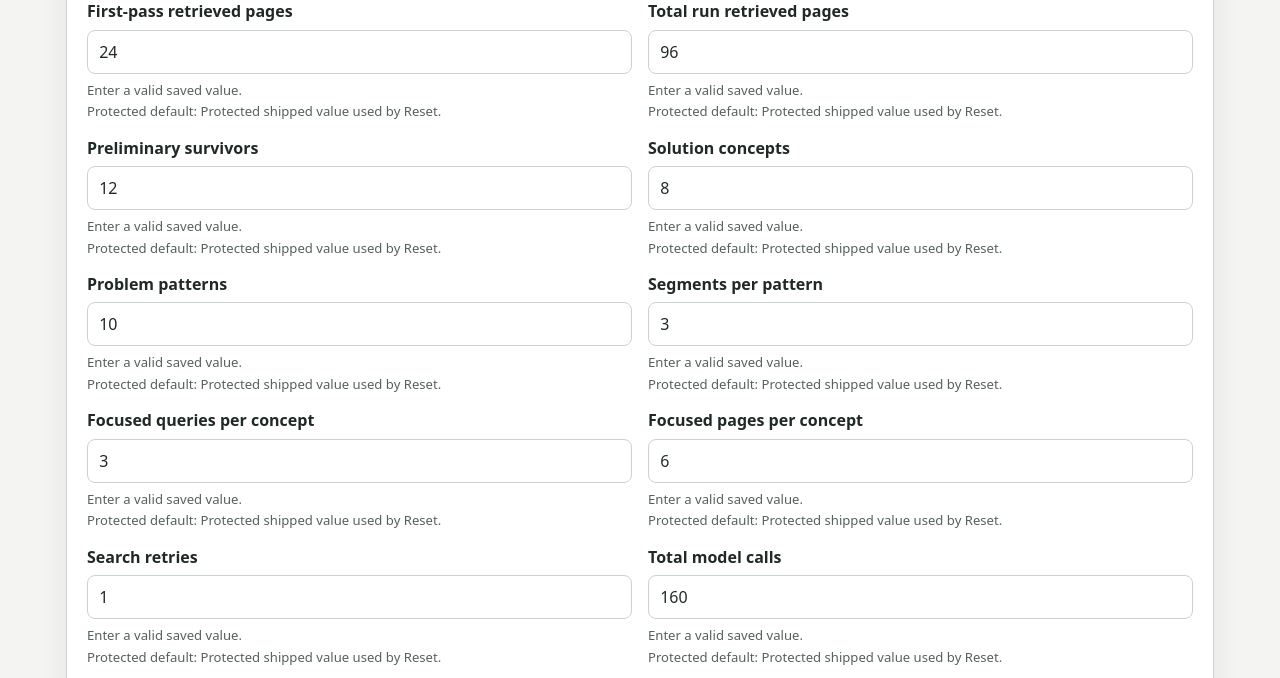
Test: SettingsView › rejects pattern and segment settings that cannot yield five candidates
(page scrolled)
Replace the text in the number field labelled "Problem patterns" with "1" at (360, 324), box [87, 302, 632, 346]
(page scrolled)
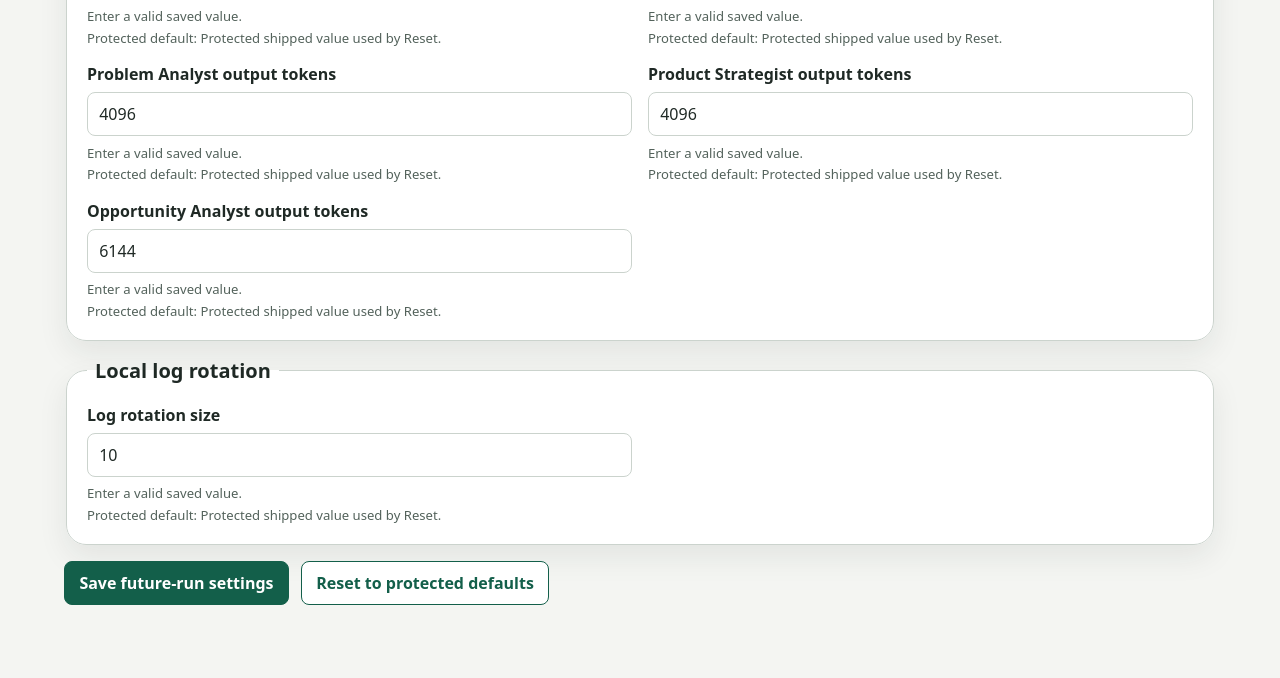
Click the button "Save future-run settings".
click(176, 583)  # box [64, 561, 289, 605]
(page scrolled)
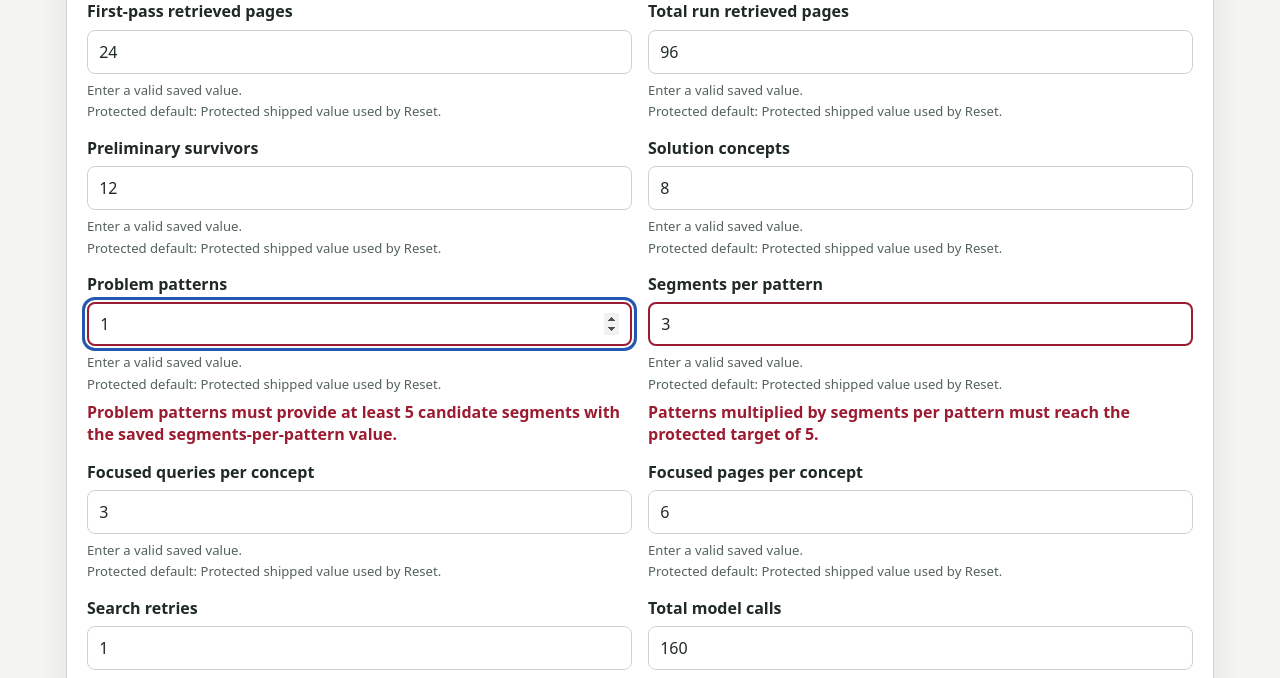
Now the text "Problem patterns must provide at least 5 candidate segments with the saved segments-per-pattern value." is shown, box [87, 400, 620, 444]
Now the text "Patterns multiplied by segments per pattern must reach the protected target of 5." is shown, box [648, 400, 1130, 444]
